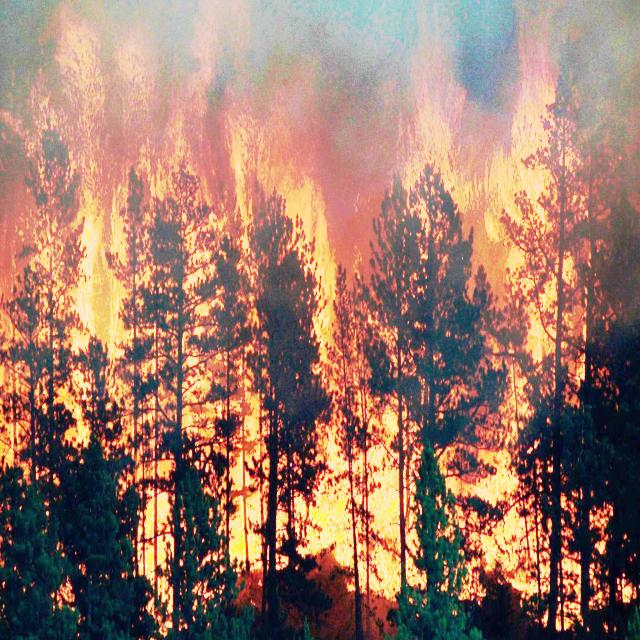api: (503, 80, 563, 410), (258, 131, 340, 280), (410, 72, 477, 219), (361, 435, 407, 596), (81, 191, 124, 359), (224, 424, 270, 581), (486, 448, 532, 603), (136, 491, 181, 628), (218, 96, 259, 241), (310, 470, 351, 563), (64, 22, 102, 101)
